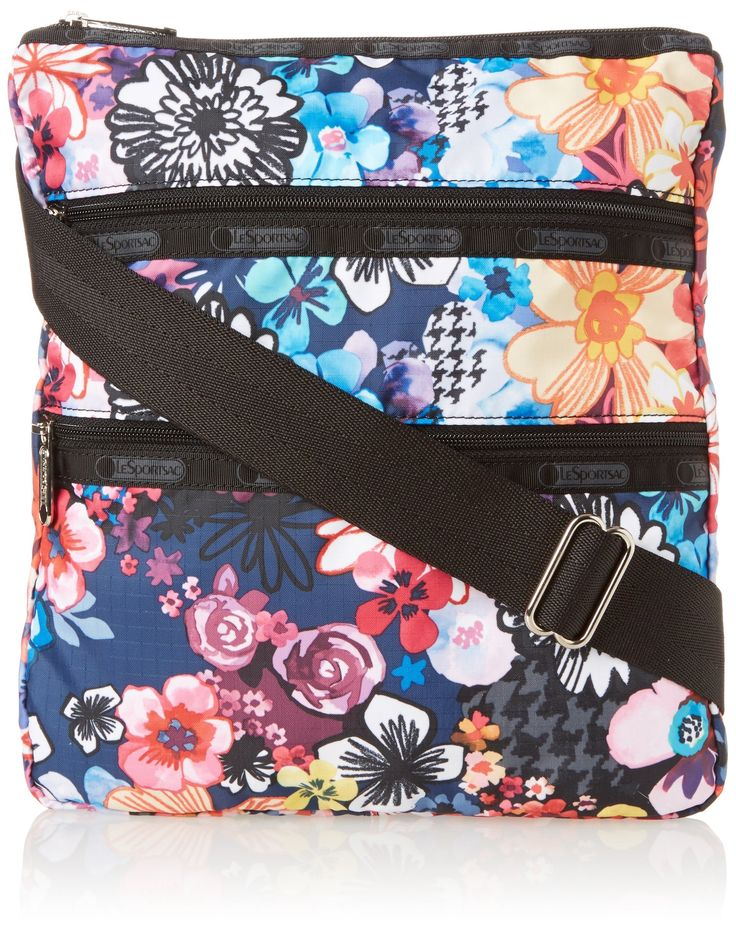nylon: (6, 23, 725, 821)
